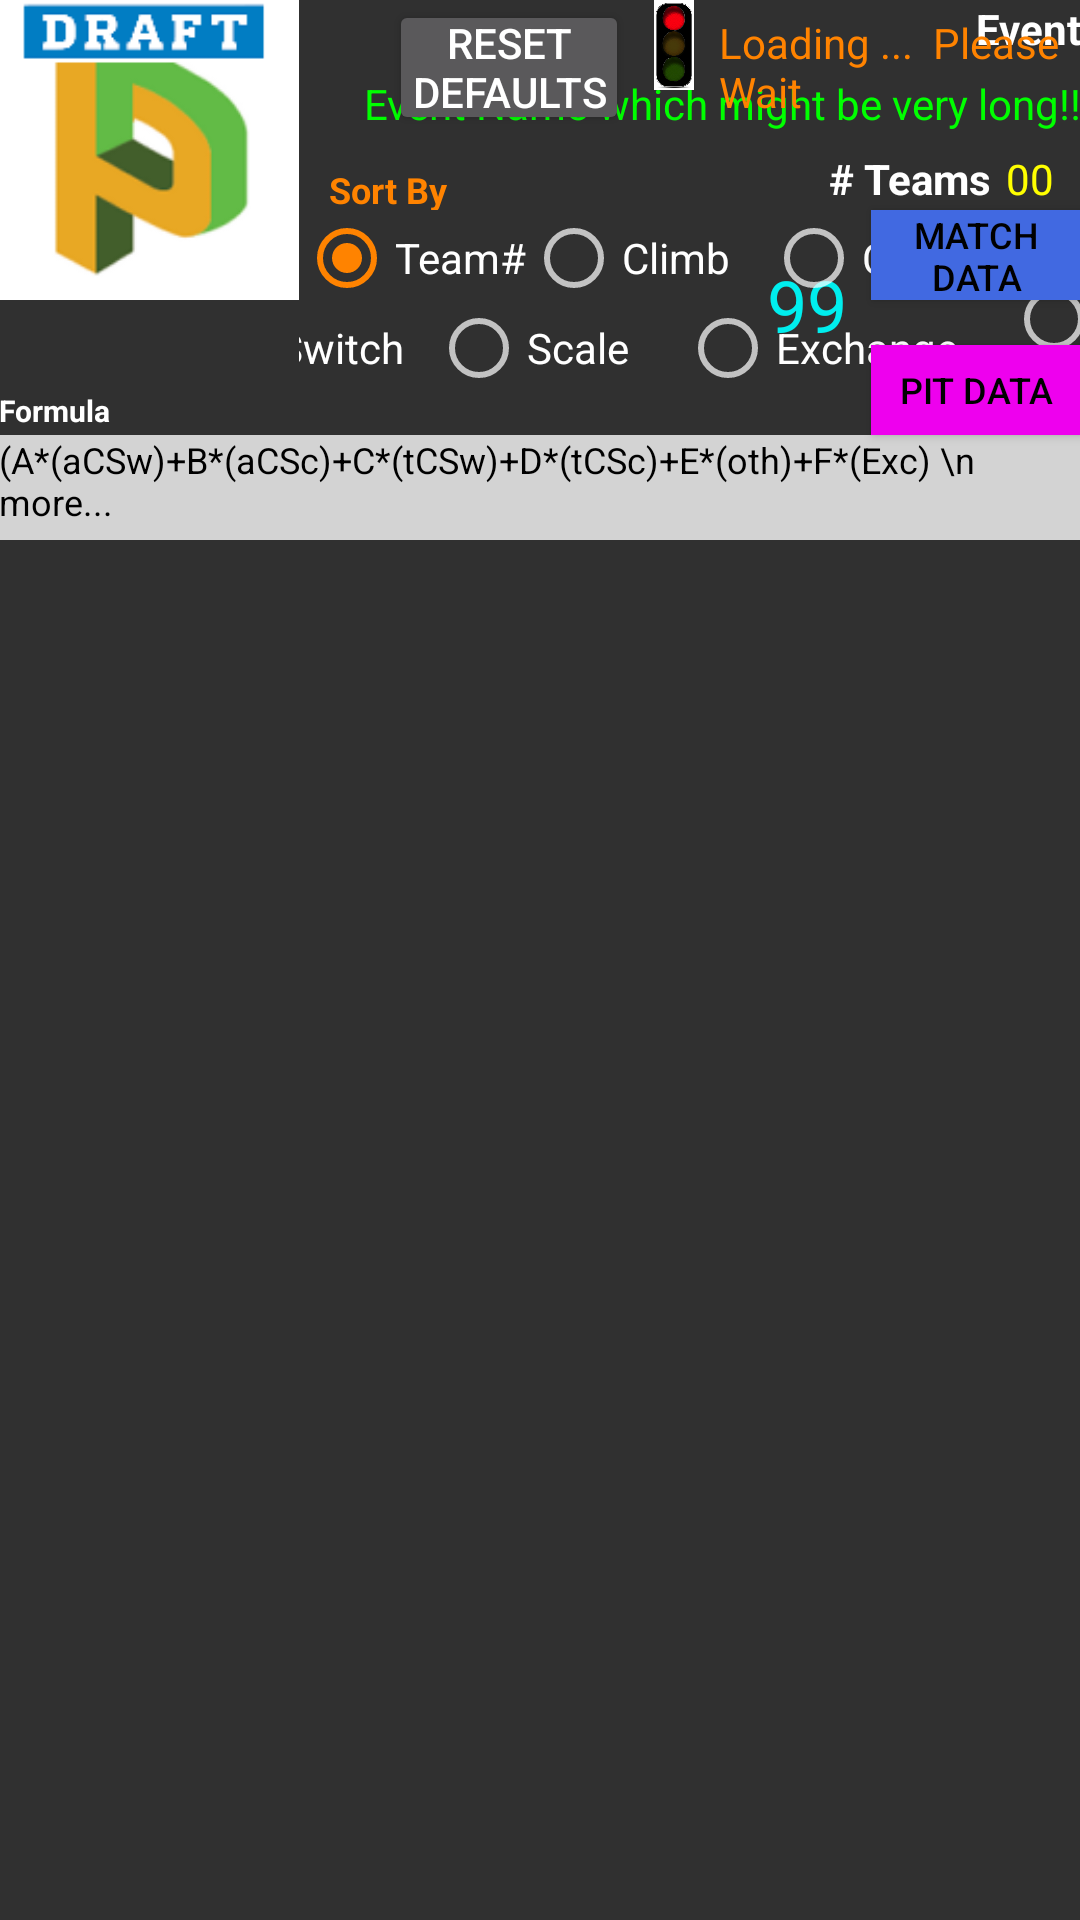

Screen size 1080x1920. Icon name, then its box in pixels as bbox=(x1, y1, x2, y2):
Load Status: bbox=(632, 0, 694, 90)
